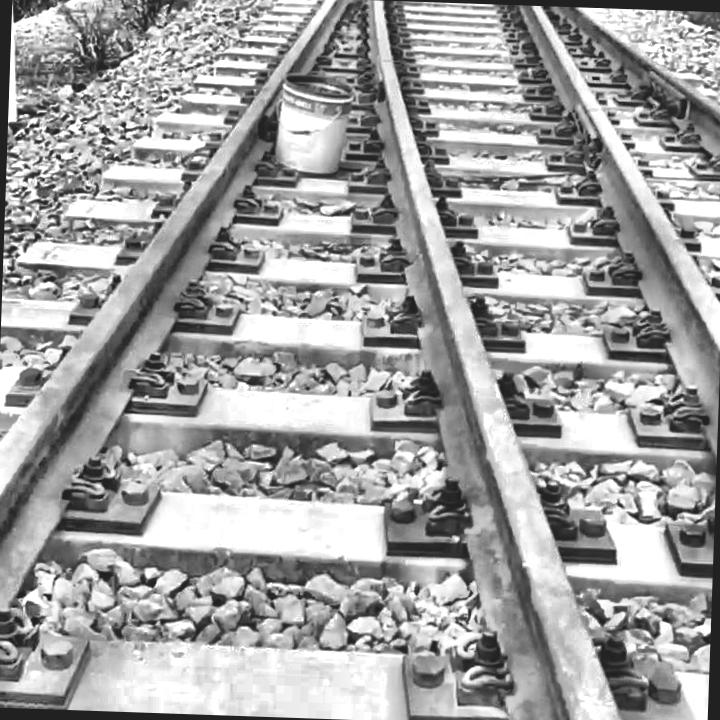Trash: (261, 64, 366, 188)
